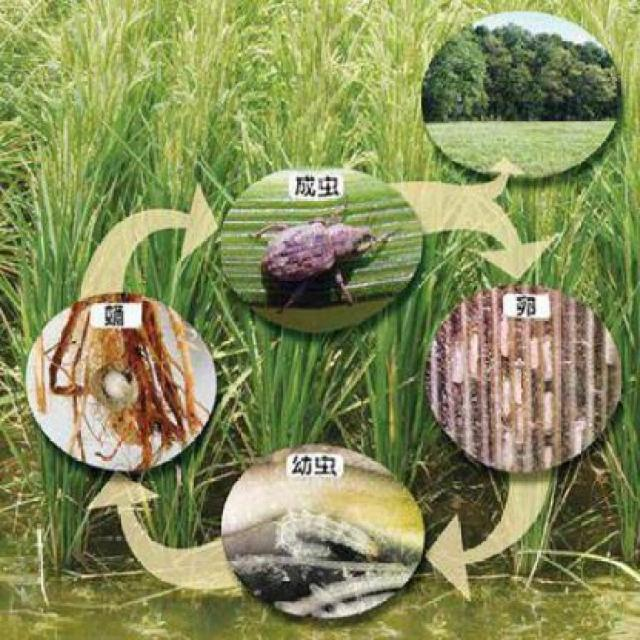rice-bug: (258, 209, 379, 311)
